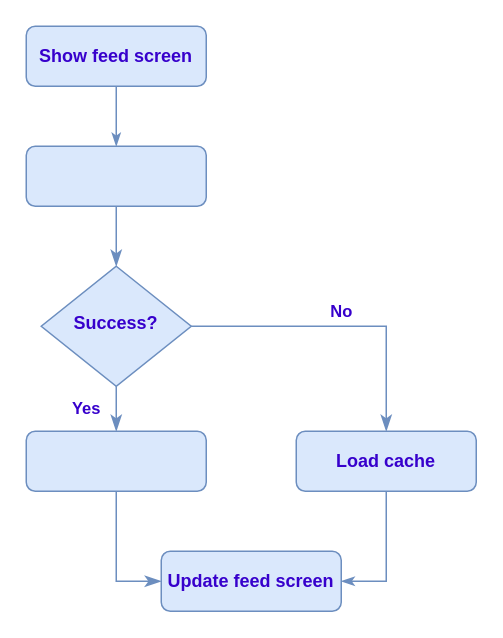
This 503x638 diagram has some shape labels left out. The shapes that lost their labels are listed below. From the top down, each one's centre as x and y in pixels, then its label:
At [115,175]: "Fetch new items".
At [115,460]: "Cache new items".
